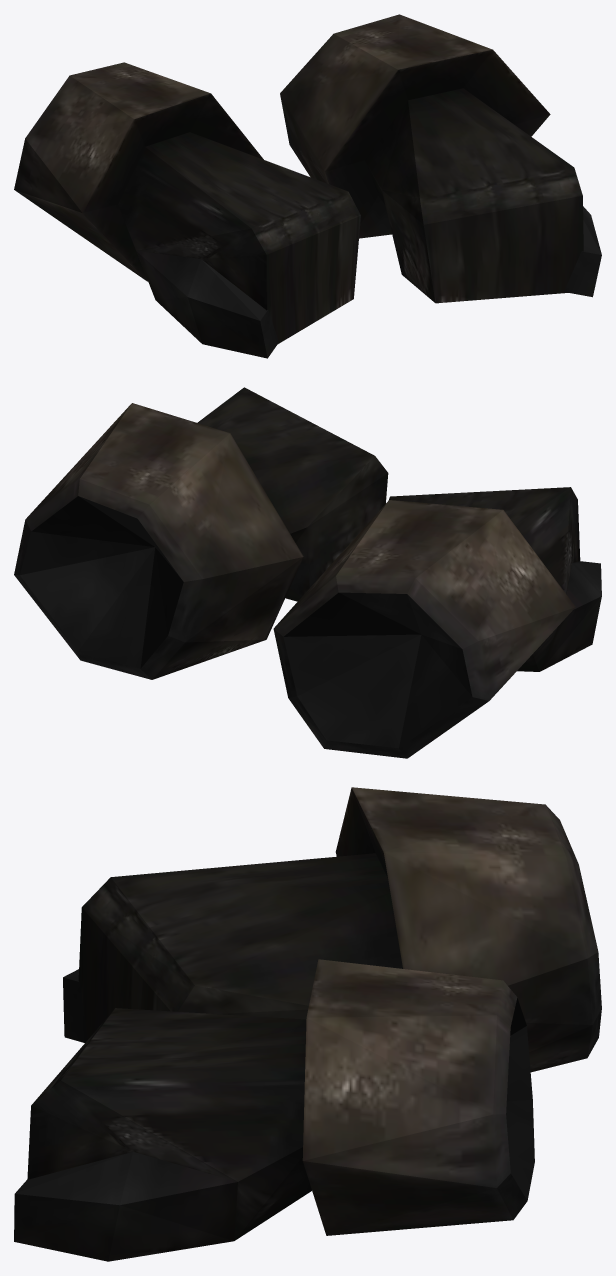
The model's file is KM_VOB_ARMORER_GLOVES_02.glb.
The picture shows the model from 3 angles, top to bottom: view 1: azimuth 30°, elevation 25°; view 2: azimuth 150°, elevation 25°; view 3: azimuth 270°, elevation 25°; orthographic projection. The views are drawn at different scales.
Parts seen in each view (by area): view 1: KM_VOB_ARMORER_GLOVES_02; view 2: KM_VOB_ARMORER_GLOVES_02; view 3: KM_VOB_ARMORER_GLOVES_02.
Boxes of the visible parts, bbox=[...] form: KM_VOB_ARMORER_GLOVES_02: bbox=[14, 14, 601, 358]; KM_VOB_ARMORER_GLOVES_02: bbox=[14, 387, 601, 758]; KM_VOB_ARMORER_GLOVES_02: bbox=[14, 787, 601, 1261].
Size of the model in its own units: 0.337 by 0.1246 by 0.2754.
Materials: 1 (1 with a texture image).
